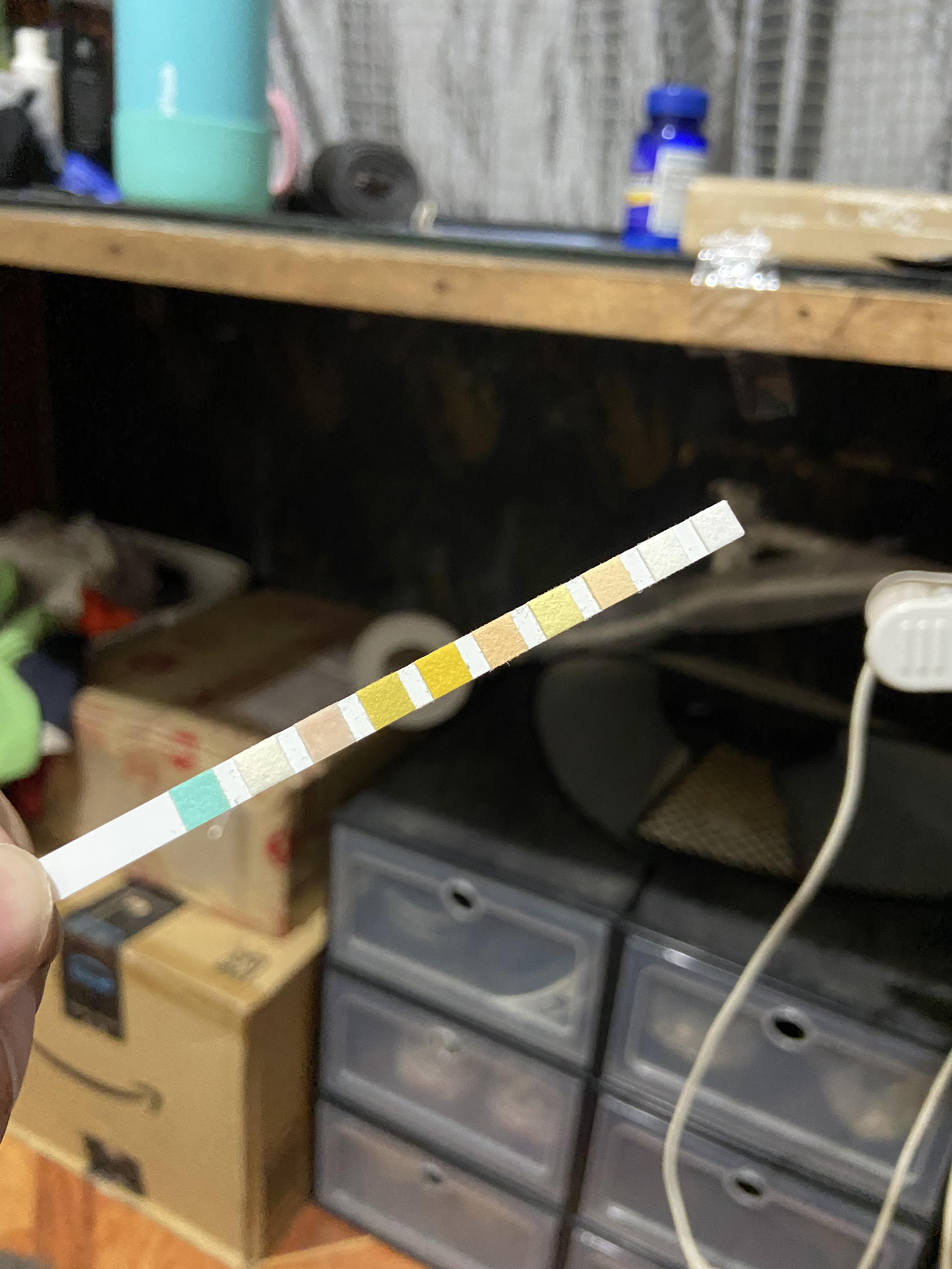Bilirubin: (246, 750, 279, 784)
Blood: (428, 655, 459, 686)
Glucose: (182, 783, 215, 817)
Ketone: (307, 717, 340, 750)
Leukocytes: (705, 511, 731, 541)
Nitrite: (651, 537, 679, 570)
Protein: (542, 594, 570, 627)
SpGravity: (370, 685, 402, 716)
Urobilinogen: (597, 565, 624, 598)
pH: (486, 624, 515, 657)
strip: (46, 500, 746, 895)
